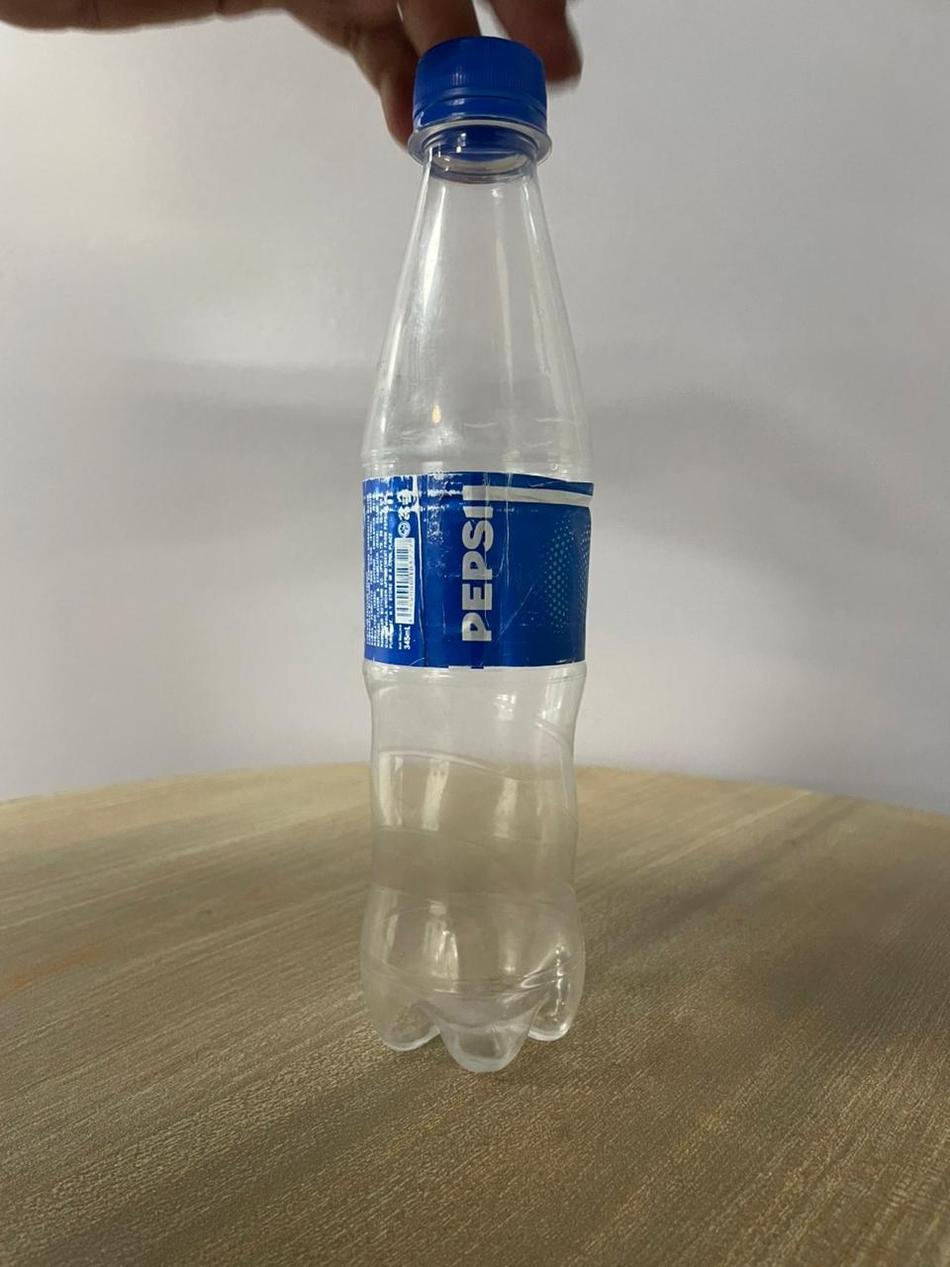Pepsi Bottle: (354, 25, 612, 1075), (356, 35, 610, 1075)
